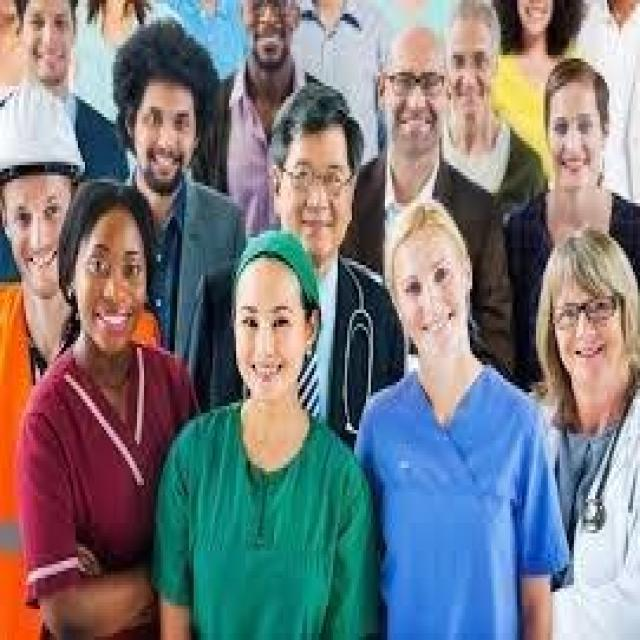person: (344, 186, 578, 636), (161, 203, 373, 637), (10, 168, 198, 636), (206, 69, 402, 430), (0, 79, 142, 568), (508, 210, 638, 612), (102, 13, 250, 364), (350, 21, 503, 340), (512, 55, 638, 313), (213, 0, 321, 234), (427, 0, 548, 193), (0, 0, 132, 158), (472, 0, 592, 127)
